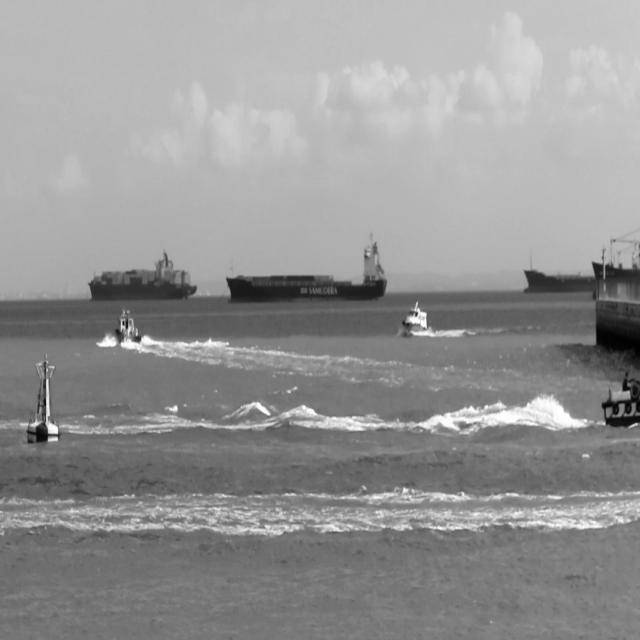buoy: (26, 352, 62, 443)
ship: (225, 230, 388, 304), (88, 247, 198, 302), (523, 254, 595, 294), (601, 366, 639, 430), (113, 306, 143, 346), (401, 302, 434, 336)
